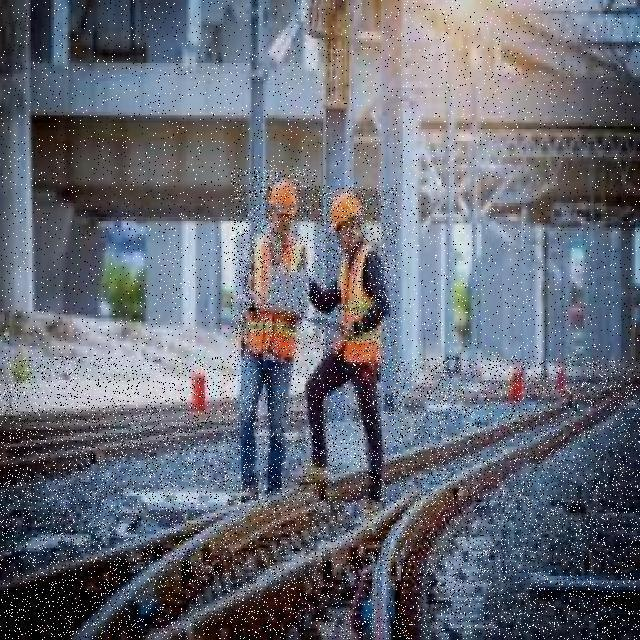rail: (1, 359, 640, 640)
